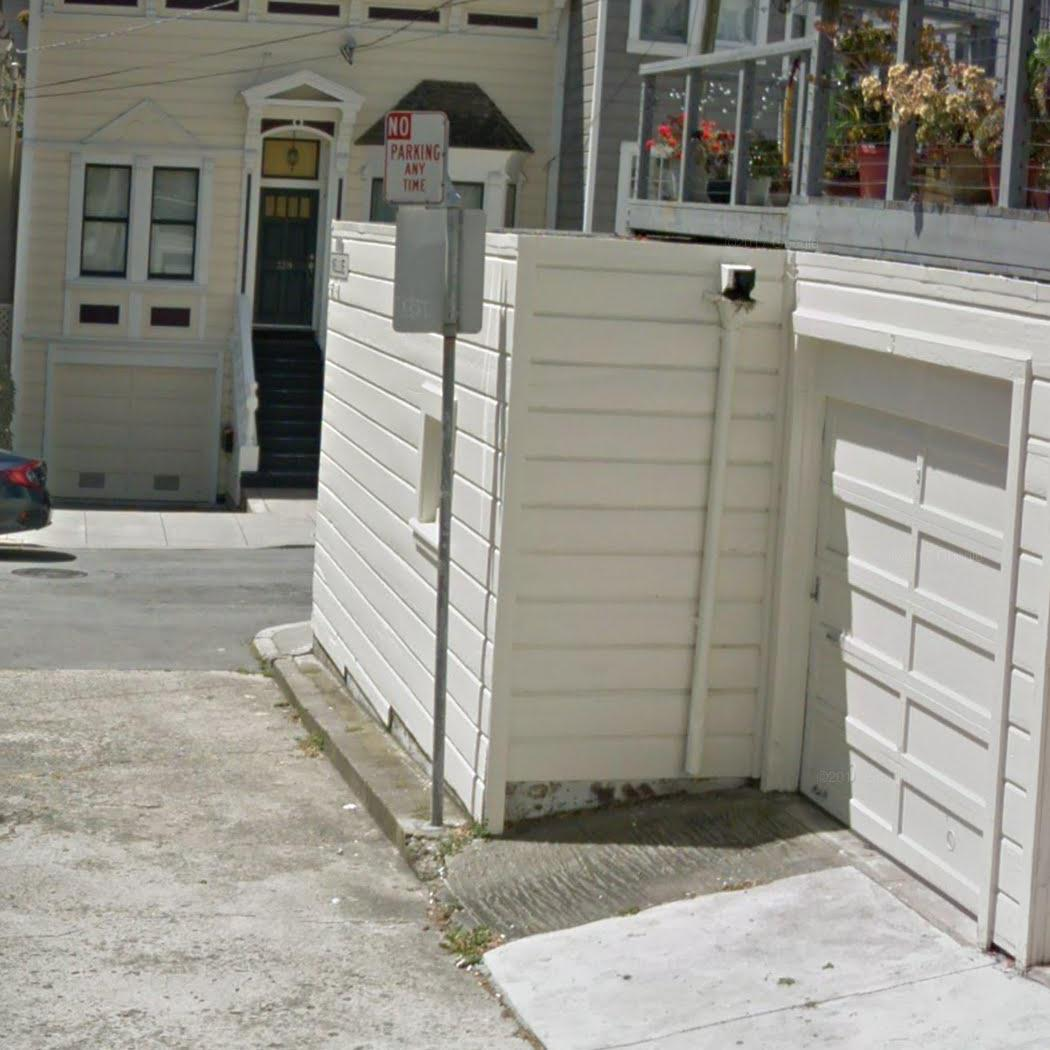No Parking Anytime: (377, 105, 451, 207)
